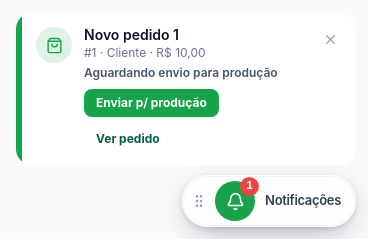
Test: Cards de novas notificações: realtime e fallback › rodada CONFIRMED abre o pedido; PENDING aceita e entra em produção sem abrir o detalhe
The image size is (368, 239).
Check: the button named "Notificações," is shown, box x1=215 y1=181 x2=255 y2=221
Check: the text "Aguardando envio para produção" is shown, box x1=84 y1=65 x2=304 y2=81
Step 1. Click the button "Ver pedido" → (128, 139), box x1=84 y1=125 x2=172 y2=153
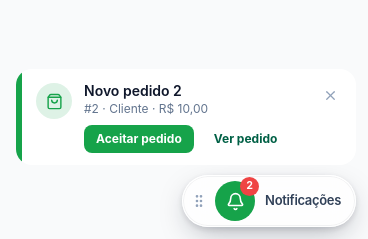
Step 2. Click the button "Aceitar pedido" → (139, 139), box x1=84 y1=125 x2=194 y2=153
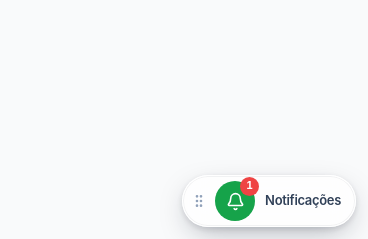
Check: the message with test id "notification-toast" is gone
